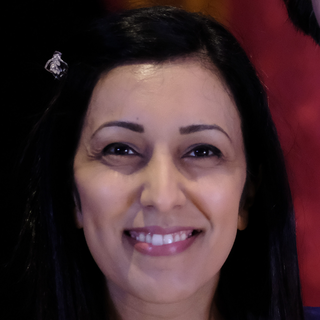eye: (93, 138, 143, 166), (177, 138, 226, 166)
